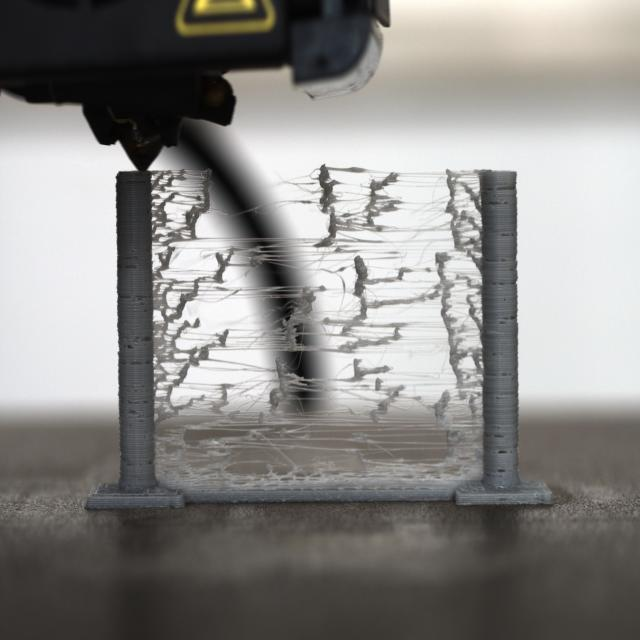Warping: (154, 167, 482, 492)
